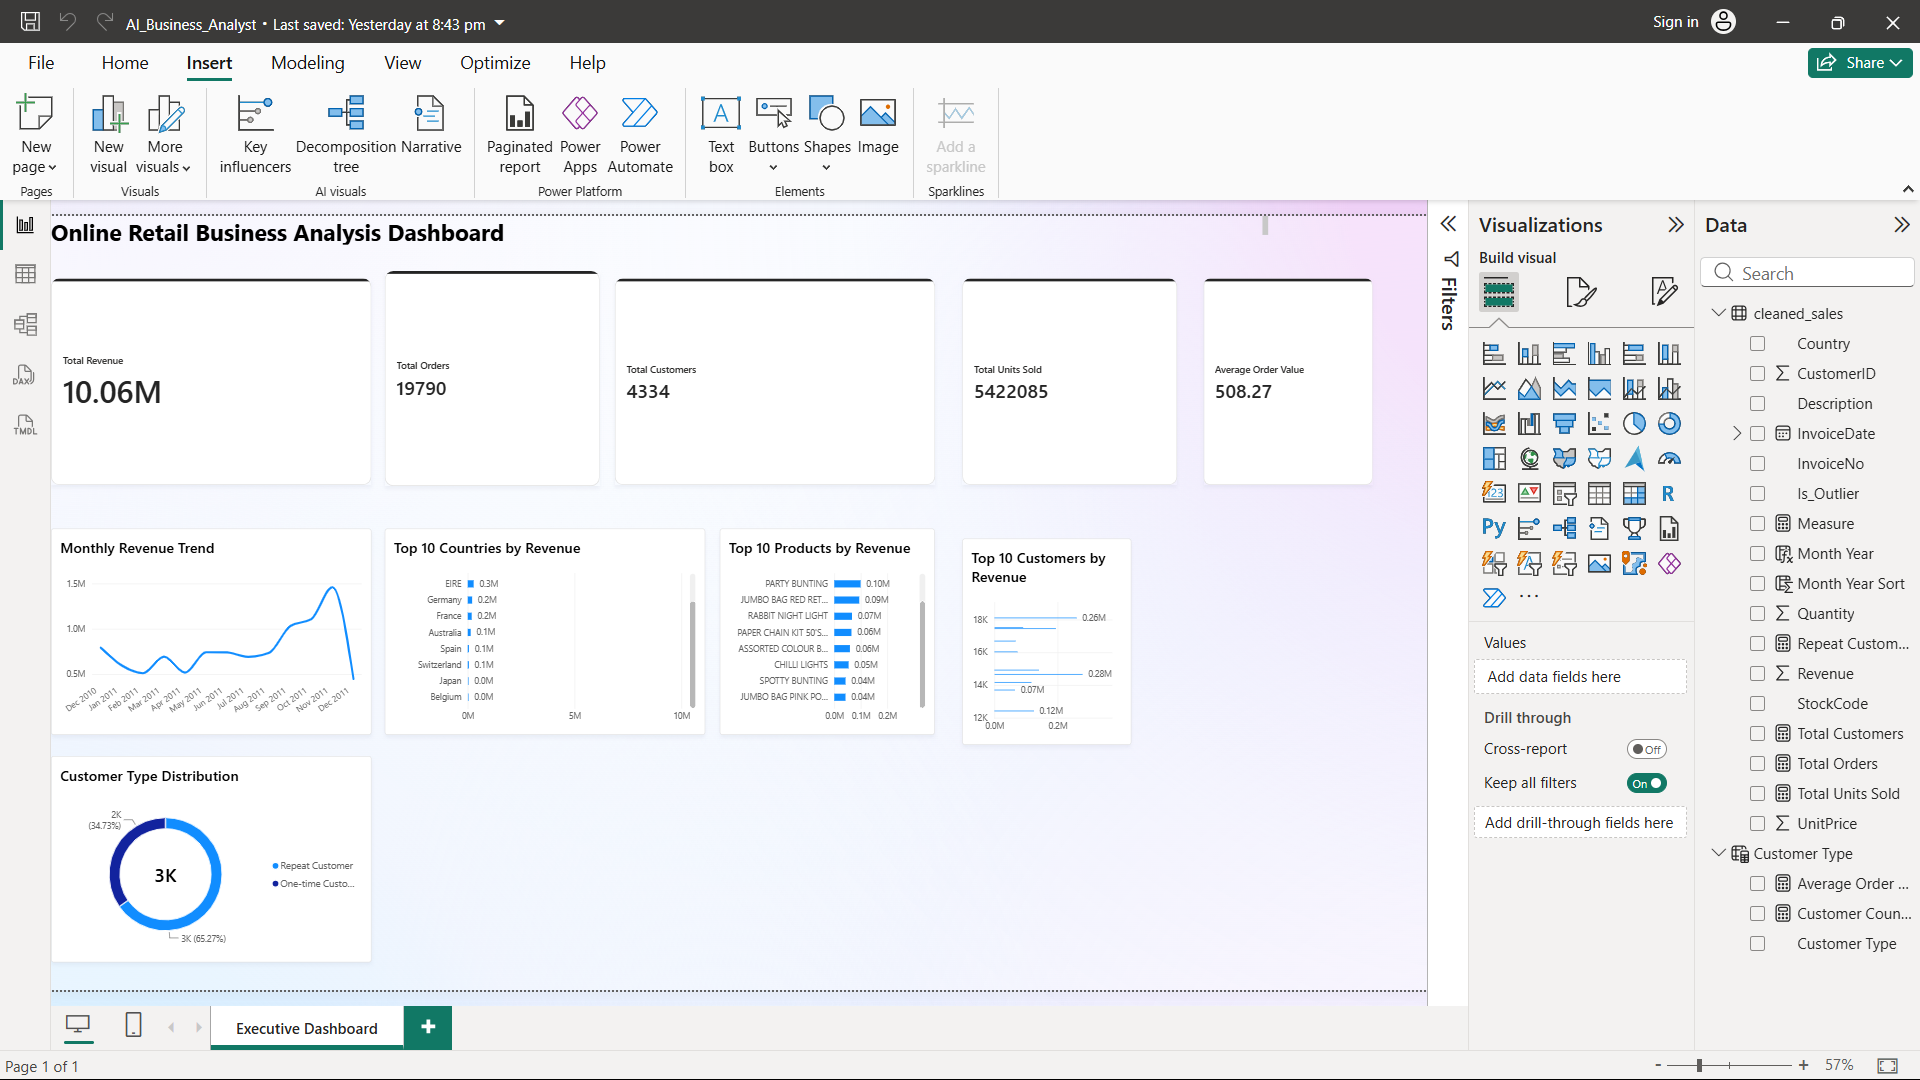

The dashboard page shown, as its layout file describes it:
{"tool":"powerbi","page":{"name":"Executive Dashboard","canvas":[1920,1080],"ordinal":0},"visuals":[{"type":"cardVisual","fields":{"Data":["Sum(cleaned_sales.Revenue)"]},"box":[0,88,447.3,288.2],"z":0},{"type":"cardVisual","fields":{"Data":["cleaned_sales.Total Orders"]},"box":[466,76,300,300],"z":1000},{"type":"cardVisual","fields":{"Data":["cleaned_sales.Total Customers"]},"box":[786,88,447.3,288.2],"z":2000},{"type":"cardVisual","fields":{"Data":["cleaned_sales.Total Units Sold"]},"box":[1272,88,300,288.2],"z":3000},{"type":"lineChart","title":"Monthly Revenue Trend","fields":{"Category":["cleaned_sales.Month Year"],"Y":["Sum(cleaned_sales.Revenue)"]},"box":[0,436,447,288],"z":4000},{"type":"clusteredBarChart","title":"Top 10 Countries by Revenue","fields":{"Category":["cleaned_sales.Country"],"Y":["Sum(cleaned_sales.Revenue)"]},"box":[466,436,447,288],"z":5000},{"type":"clusteredBarChart","title":"Top 10 Products by Revenue","fields":{"Category":["cleaned_sales.Description"],"Y":["Sum(cleaned_sales.Revenue)"]},"box":[934,436,300,288],"z":6000},{"type":"clusteredBarChart","title":"Top 10 Customers by Revenue","fields":{"Category":["cleaned_sales.CustomerID"],"Y":["Sum(cleaned_sales.Revenue)"]},"box":[1272,450,236,288],"z":7000},{"type":"donutChart","title":"Customer Type Distribution","fields":{"Category":["Customer Type.Customer Type"],"Y":["Customer Type.Customer Count by Type"]},"box":[0,754,447,288],"z":8000},{"type":"cardVisual","fields":{"Data":["Customer Type.Average Order Value"]},"box":[1608,88,236,288],"z":9000},{"type":"textbox","box":[0,0,1698,40],"z":11000}]}

Visuals, with their boxes on the page's 1920x1080 design canvas (x1, y1, x2, y2). These are canvas units, not pixel positions in the 1920x1080 screenshot, which may show the page scaled, cropped or inside an application window:
cardVisual - Sum(cleaned_sales.Revenue): bbox(0, 88, 447, 376)
cardVisual - cleaned_sales.Total Orders: bbox(466, 76, 766, 376)
cardVisual - cleaned_sales.Total Customers: bbox(786, 88, 1233, 376)
cardVisual - cleaned_sales.Total Units Sold: bbox(1272, 88, 1572, 376)
"Monthly Revenue Trend" lineChart: bbox(0, 436, 447, 724)
"Top 10 Countries by Revenue" clusteredBarChart: bbox(466, 436, 913, 724)
"Top 10 Products by Revenue" clusteredBarChart: bbox(934, 436, 1234, 724)
"Top 10 Customers by Revenue" clusteredBarChart: bbox(1272, 450, 1508, 738)
"Customer Type Distribution" donutChart: bbox(0, 754, 447, 1042)
cardVisual - Customer Type.Average Order Value: bbox(1608, 88, 1844, 376)
textbox: bbox(0, 0, 1698, 40)
